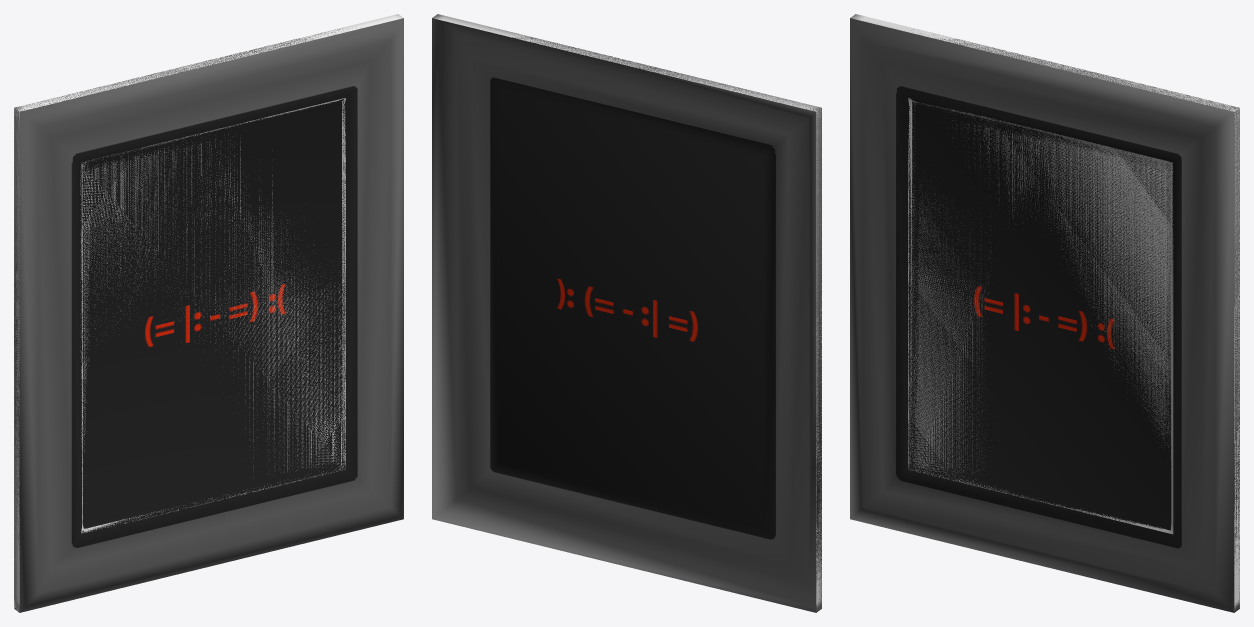
File: Wall_screen.glb
The picture shows the model from 3 angles, left to right: view 1: azimuth 30°, elevation 25°; view 2: azimuth 150°, elevation 25°; view 3: azimuth 330°, elevation 25°; orthographic projection.
Visible parts, largest first — view 1: Plane, Plane.001; view 2: Plane, Plane.001; view 3: Plane, Plane.001.
Boxes of the visible parts, left/top/right/bottom form: Plane: left=14, top=18, right=403, bottom=612; Plane.001: left=14, top=14, right=403, bottom=611; Plane: left=432, top=18, right=821, bottom=612; Plane.001: left=432, top=14, right=821, bottom=611; Plane: left=850, top=18, right=1239, bottom=612; Plane.001: left=850, top=14, right=1239, bottom=611.
Bounding box in the file's own units: 0.4001 × 0.4987 × 0.0158.
Materials: 1 (1 with a texture image).
